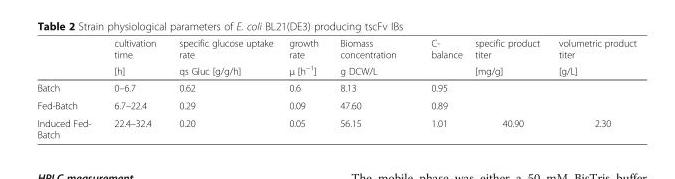table: (36, 37, 635, 139)
table column: (166, 37, 280, 139), (548, 37, 635, 139), (328, 37, 413, 139), (468, 37, 548, 139), (36, 37, 102, 139), (102, 37, 166, 139), (413, 37, 468, 139), (280, 37, 328, 139)
table column header: (36, 37, 635, 79)
table row: (36, 113, 635, 139), (36, 37, 635, 61), (36, 61, 635, 79), (36, 79, 635, 96), (36, 96, 635, 113)
table spanning cell: (166, 37, 280, 79), (548, 37, 635, 79), (328, 37, 413, 79), (468, 37, 548, 79), (102, 37, 166, 79), (413, 37, 468, 79), (280, 37, 328, 79)
